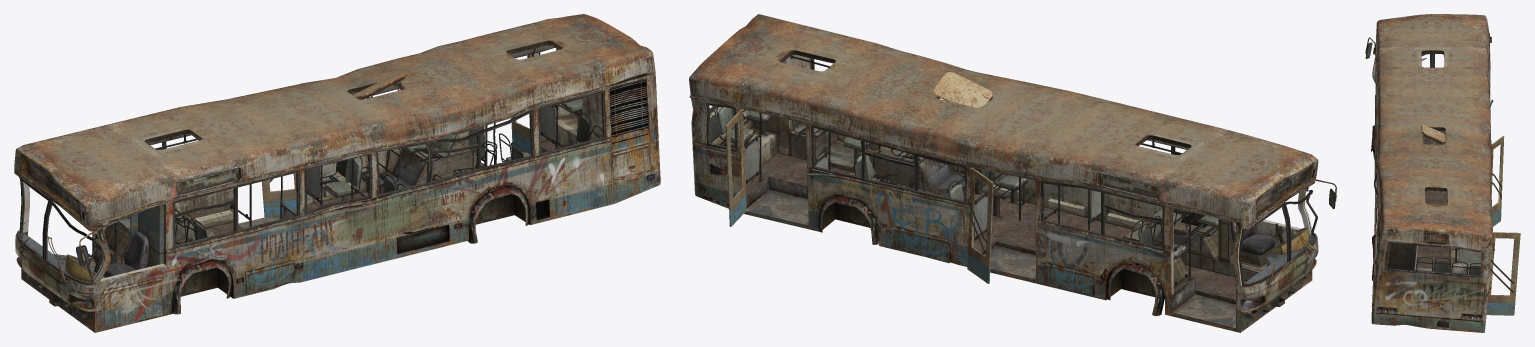
Rendered from destroyed_bus.glb.
3 renders of one model, left to right at view 1: azimuth 30°, elevation 25°; view 2: azimuth 150°, elevation 25°; view 3: azimuth 270°, elevation 25°, orthographic. The views are drawn at different scales.
Parts seen in each view (by area): view 1: mesh_0_veh\bus_01_0, mesh_1_veh\bus_02_0, mesh_3_veh\bus_04_0, mesh_4_veh\bus_05_0, mesh_2_veh\bus_03_0, mesh_5_metal\metal_tile_0; view 2: mesh_0_veh\bus_01_0, mesh_1_veh\bus_02_0, mesh_2_veh\bus_03_0, mesh_3_veh\bus_04_0, mesh_4_veh\bus_05_0, mesh_5_metal\metal_tile_0; view 3: mesh_0_veh\bus_01_0, mesh_4_veh\bus_05_0, mesh_2_veh\bus_03_0, mesh_1_veh\bus_02_0, mesh_5_metal\metal_tile_0, mesh_3_veh\bus_04_0.
Part boxes in pixels (bbox=[...]): mesh_0_veh\bus_01_0: bbox=[14, 14, 660, 332]; mesh_1_veh\bus_02_0: bbox=[76, 75, 659, 332]; mesh_3_veh\bus_04_0: bbox=[16, 45, 606, 285]; mesh_4_veh\bus_05_0: bbox=[65, 49, 602, 282]; mesh_2_veh\bus_03_0: bbox=[22, 40, 606, 284]; mesh_5_metal\metal_tile_0: bbox=[103, 141, 560, 277]; mesh_0_veh\bus_01_0: bbox=[689, 14, 1318, 332]; mesh_1_veh\bus_02_0: bbox=[689, 95, 1336, 332]; mesh_2_veh\bus_03_0: bbox=[705, 50, 1312, 327]; mesh_3_veh\bus_04_0: bbox=[705, 58, 1317, 293]; mesh_4_veh\bus_05_0: bbox=[709, 55, 1309, 287]; mesh_5_metal\metal_tile_0: bbox=[746, 153, 1246, 299]; mesh_0_veh\bus_01_0: bbox=[1371, 14, 1492, 332]; mesh_4_veh\bus_05_0: bbox=[1415, 136, 1520, 315]; mesh_2_veh\bus_03_0: bbox=[1372, 50, 1490, 270]; mesh_1_veh\bus_02_0: bbox=[1365, 33, 1494, 320]; mesh_5_metal\metal_tile_0: bbox=[1415, 131, 1448, 271]; mesh_3_veh\bus_04_0: bbox=[1374, 54, 1482, 275].
Size of the model in its own units: 14.71 by 3.8 by 4.37.
7 materials, 7 textured.
